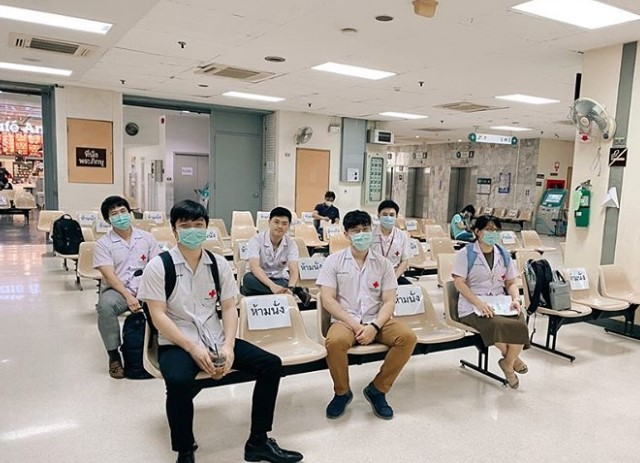face_no_mask: (266, 207, 291, 237)
face_with_mask: (172, 205, 208, 248), (345, 214, 372, 250), (474, 215, 500, 248), (104, 199, 131, 230), (378, 201, 399, 231)
